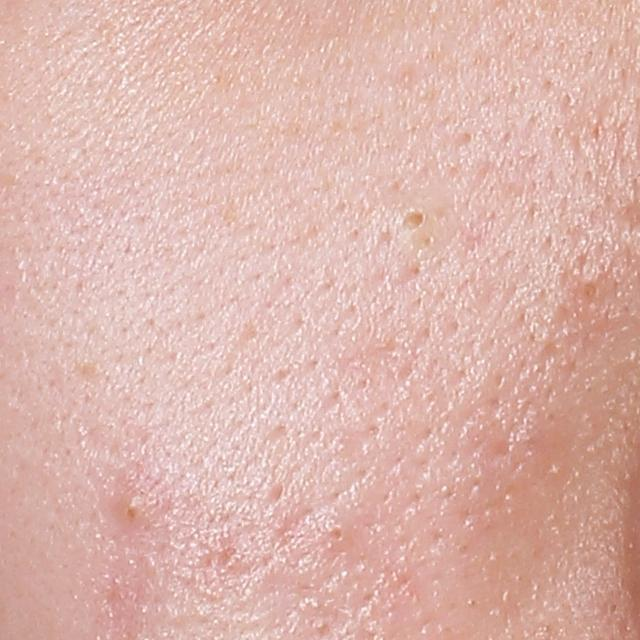comedo: (390, 200, 442, 245), (119, 493, 153, 525), (323, 520, 352, 548), (577, 276, 602, 302)
